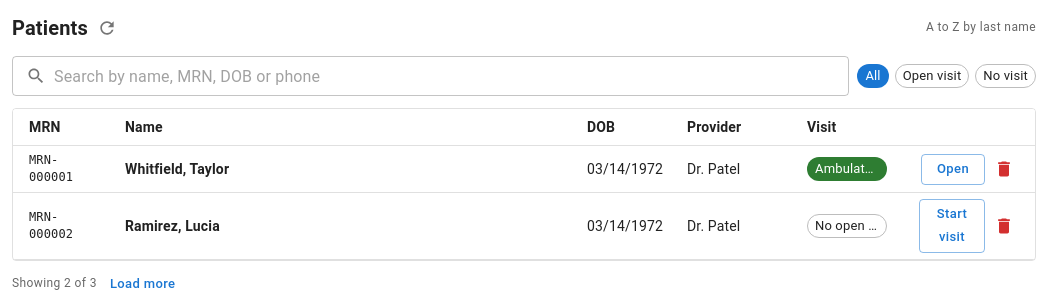
the filters narrow the loaded patients
The width and height of the screenshot is (1048, 307).
expect the text "Whitfield, Taylor" is shown: met, box [125,161,229,177]
Step 1. Click the button "Open visit" → (932, 76), box [895,64,969,88]
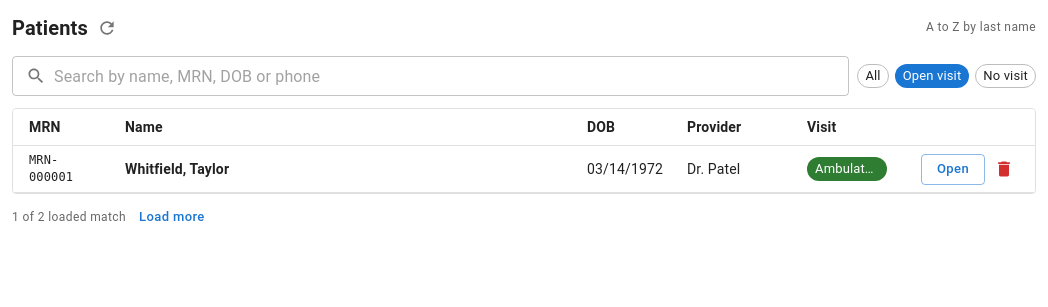
expect the text "Whitfield, Taylor" is shown: met, box [125,161,229,177]
expect the text "Ramirez, Lucia" is gone: met
Step 2. Click the button "No visit" → (1006, 76), box [975,64,1036,88]
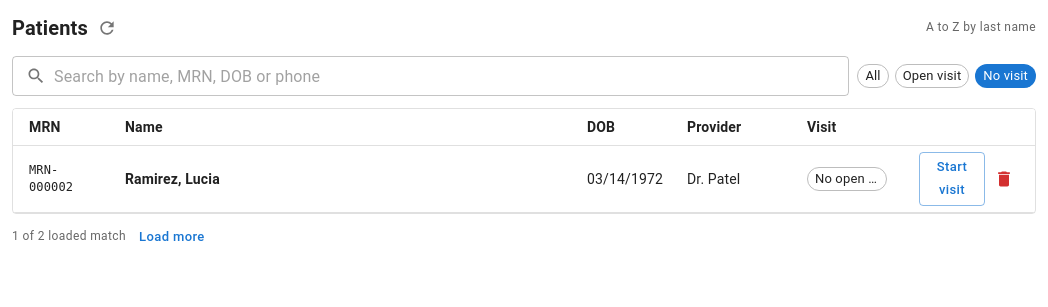
expect the text "Whitfield, Taylor" is gone: met
expect the text "Ramirez, Lucia" is shown: met, box [125,171,220,187]
